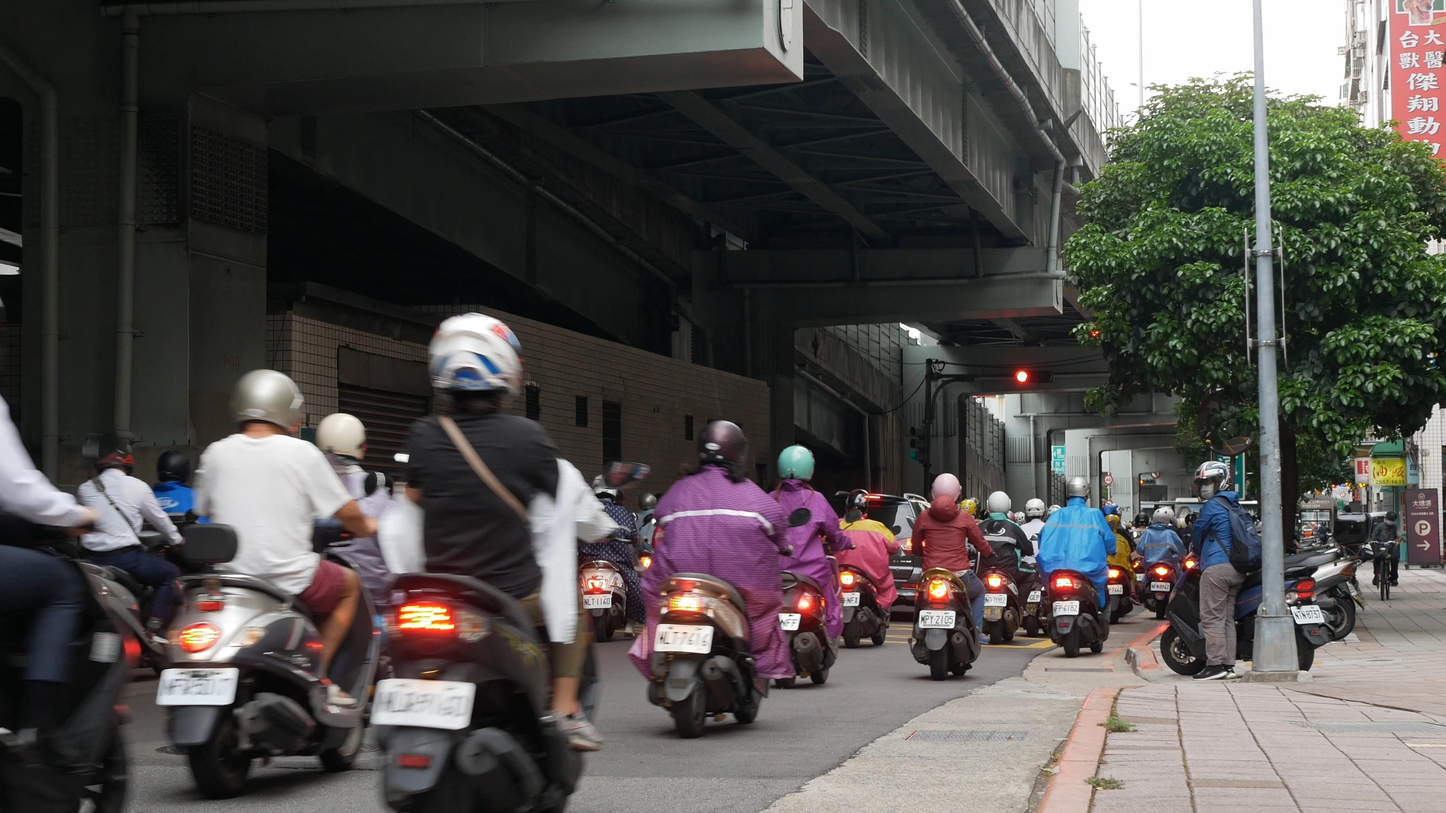bicyclist: (1370, 512, 1402, 601)
driver: (373, 311, 653, 813), (155, 368, 386, 801), (624, 420, 811, 738), (68, 436, 200, 681), (767, 444, 862, 689), (908, 473, 1007, 681), (1034, 476, 1118, 659), (577, 474, 654, 643), (830, 488, 901, 648), (968, 491, 1039, 644), (1135, 506, 1191, 620), (1100, 505, 1141, 625)
helmet: (426, 311, 524, 412), (229, 369, 305, 434), (696, 420, 749, 469), (315, 413, 368, 461), (1193, 461, 1233, 504), (95, 437, 135, 475), (777, 444, 815, 483), (157, 450, 190, 483), (931, 473, 962, 505), (845, 488, 869, 520), (592, 474, 618, 502), (1066, 476, 1091, 504), (986, 491, 1011, 515), (1024, 498, 1046, 522), (638, 492, 657, 511), (960, 499, 977, 519), (1152, 507, 1170, 525), (1135, 512, 1149, 528), (1100, 505, 1117, 517), (1185, 513, 1198, 528), (1014, 512, 1027, 526), (1176, 518, 1188, 530)
no-helmet: (1385, 512, 1398, 527)
